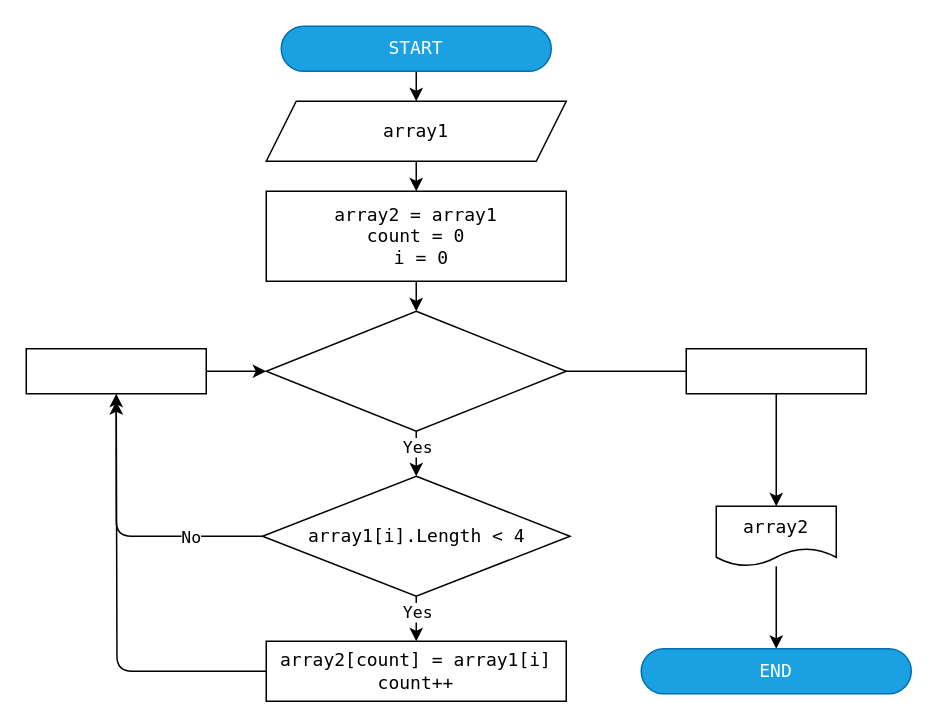
Some shapes in this 938 by 728 pixel diagram are drawn without their labels. Each missing label, with the box of its shape:
array2.Resize: (685, 347, 866, 394)
i < array1.Length: (265, 310, 566, 431)
i++: (25, 347, 206, 394)
